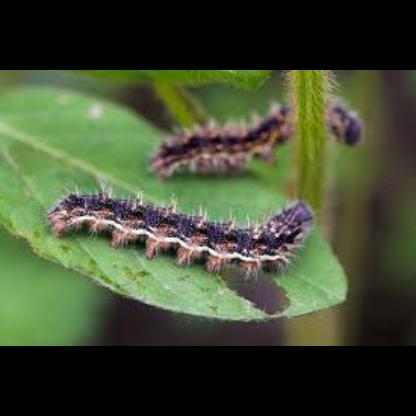agujero: (212, 260, 296, 324)
oruga: (39, 182, 343, 288), (154, 87, 370, 179)
